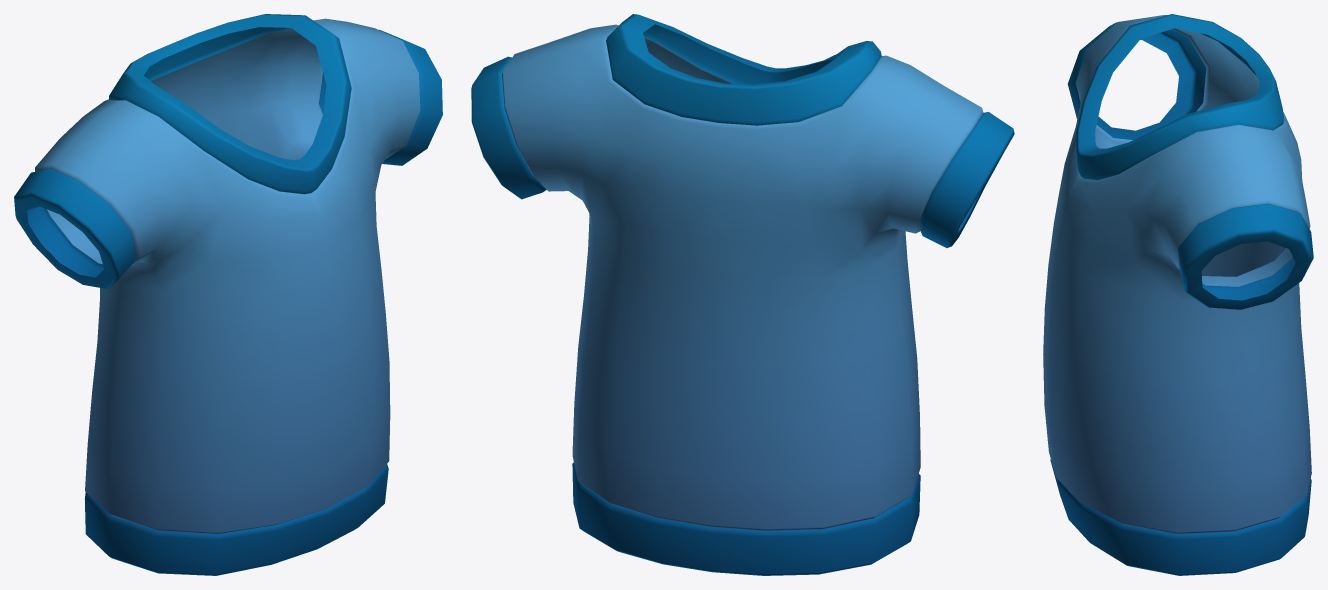
The model's file is T_Shirt_009_001.glb.
3 renders of one model, left to right at view 1: azimuth 30°, elevation 25°; view 2: azimuth 150°, elevation 25°; view 3: azimuth 270°, elevation 25°, orthographic. The views are drawn at different scales.
Parts seen in each view (by area): view 1: T_Shirt_009.001; view 2: T_Shirt_009.001; view 3: T_Shirt_009.001.
Part boxes in pixels (x1,y1,x2,y2): T_Shirt_009.001: (14,14,442,575); T_Shirt_009.001: (471,14,1014,575); T_Shirt_009.001: (1043,14,1313,575).
Bounding box in the file's own units: 0.6195 × 0.6134 × 0.3362.
Materials: 1 (1 with a texture image).
